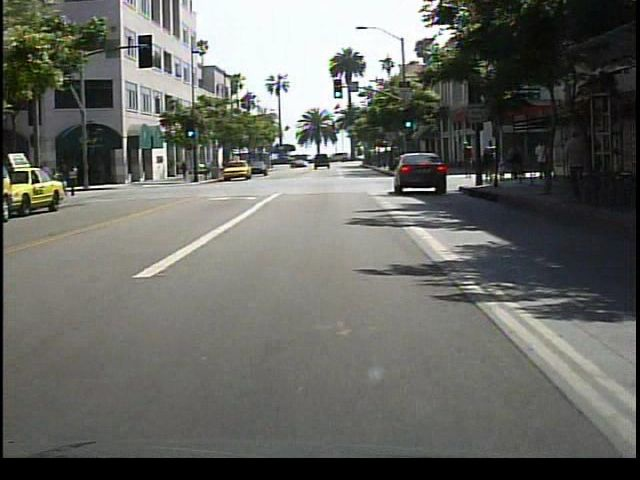person: (66, 162, 88, 203), (458, 141, 475, 183)
